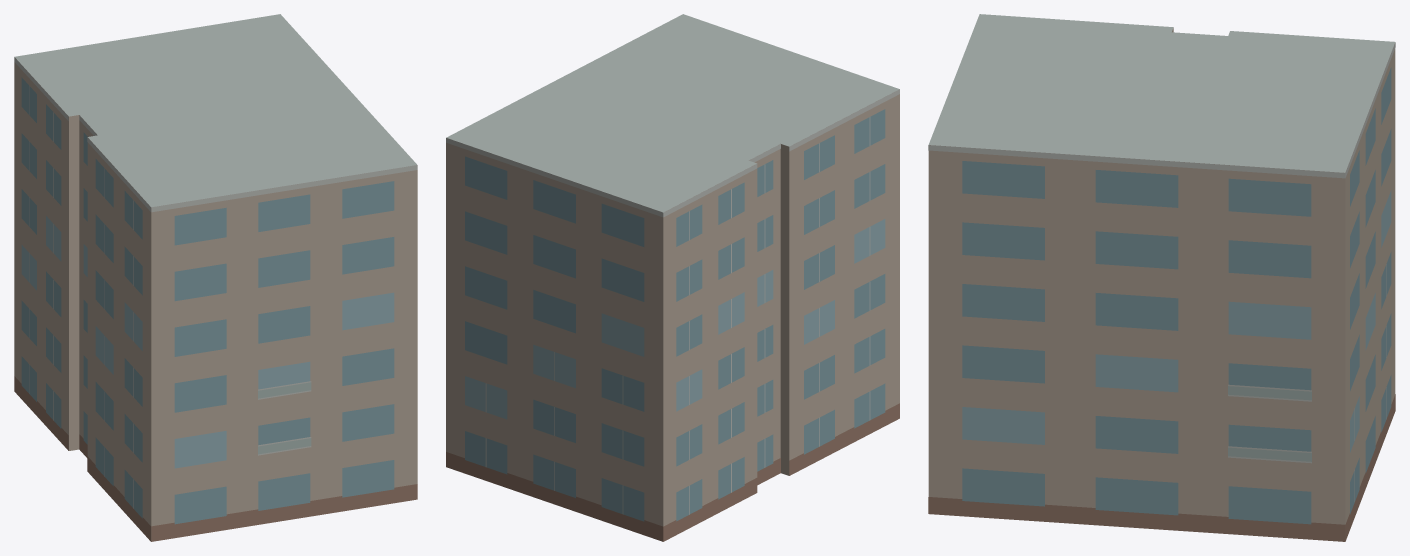
File: survey-upis-32907249.glb
The picture shows the model from 3 angles, left to right: view 1: azimuth 30°, elevation 25°; view 2: azimuth 150°, elevation 25°; view 3: azimuth 270°, elevation 25°; orthographic projection. The views are drawn at different scales.
Parts seen in each view (by area): view 1: survey-upis-32907249.tmp; view 2: survey-upis-32907249.tmp; view 3: survey-upis-32907249.tmp.
Boxes of the visible parts, x1,y1,x2,y2 form: survey-upis-32907249.tmp: (14, 14, 417, 541); survey-upis-32907249.tmp: (446, 14, 899, 541); survey-upis-32907249.tmp: (928, 14, 1395, 541).
Size of the model in its own units: 15.06 by 16.3 by 18.7.
